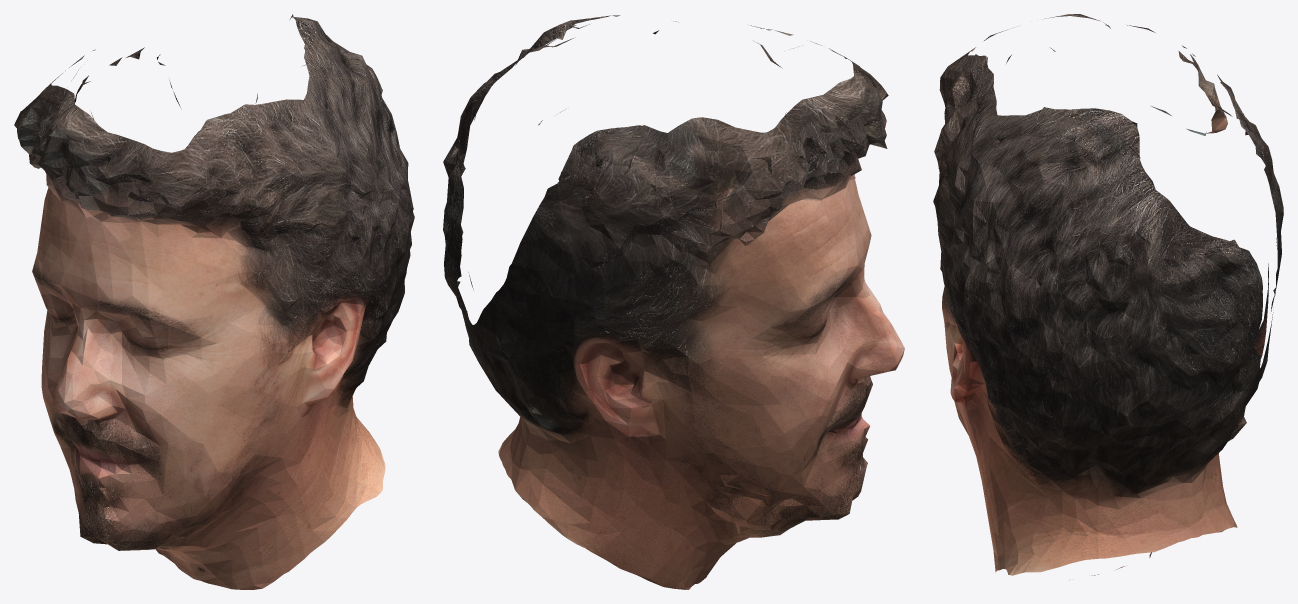
File: BUSTO_10.glb
The picture shows the model from 3 angles, left to right: view 1: azimuth 30°, elevation 25°; view 2: azimuth 150°, elevation 25°; view 3: azimuth 270°, elevation 25°; orthographic projection. The views are drawn at different scales.
Parts seen in each view (by area): view 1: Mesh_0.006; view 2: Mesh_0.006; view 3: Mesh_0.006.
Part boxes in pixels (x1,y1,x2,y2): Mesh_0.006: [14, 14, 414, 589]; Mesh_0.006: [443, 15, 904, 589]; Mesh_0.006: [933, 14, 1283, 580].
Bounding box in the file's own units: 2.86 × 3.78 × 2.29.
Materials: 1 (1 with a texture image).
